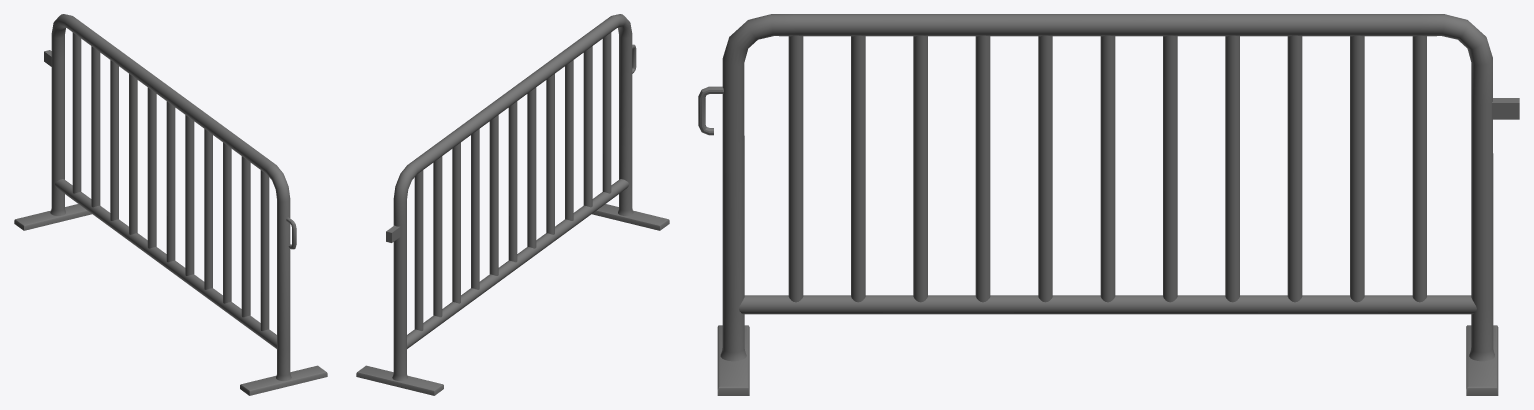
File: Barrier_02.glb
3 renders of one model, left to right at view 1: azimuth 30°, elevation 25°; view 2: azimuth 150°, elevation 25°; view 3: azimuth 270°, elevation 25°, orthographic. The views are drawn at different scales.
Visible parts, largest first — view 1: Mesh_Barrier_02; view 2: Mesh_Barrier_02; view 3: Mesh_Barrier_02.
Boxes of the visible parts, <box> form: Mesh_Barrier_02: <box>14,14,327,395</box>; Mesh_Barrier_02: <box>356,14,669,395</box>; Mesh_Barrier_02: <box>698,14,1519,395</box>.
Size of the model in its own units: 0.4 by 1.03 by 2.19.
1 material, 1 textured.
